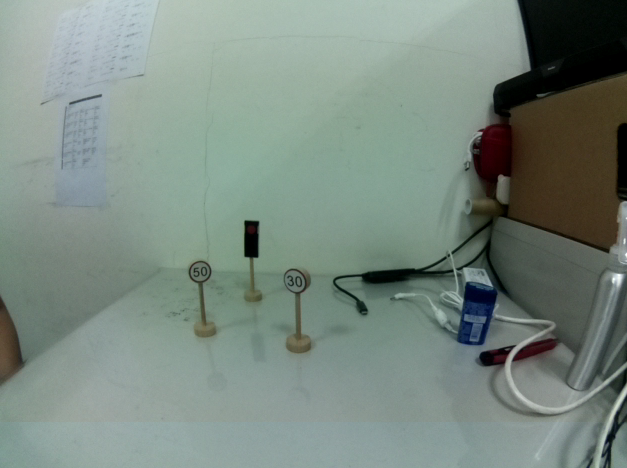Red: (241, 215, 264, 264)
Speed30: (283, 268, 312, 296)
Speed50: (187, 259, 212, 284)
